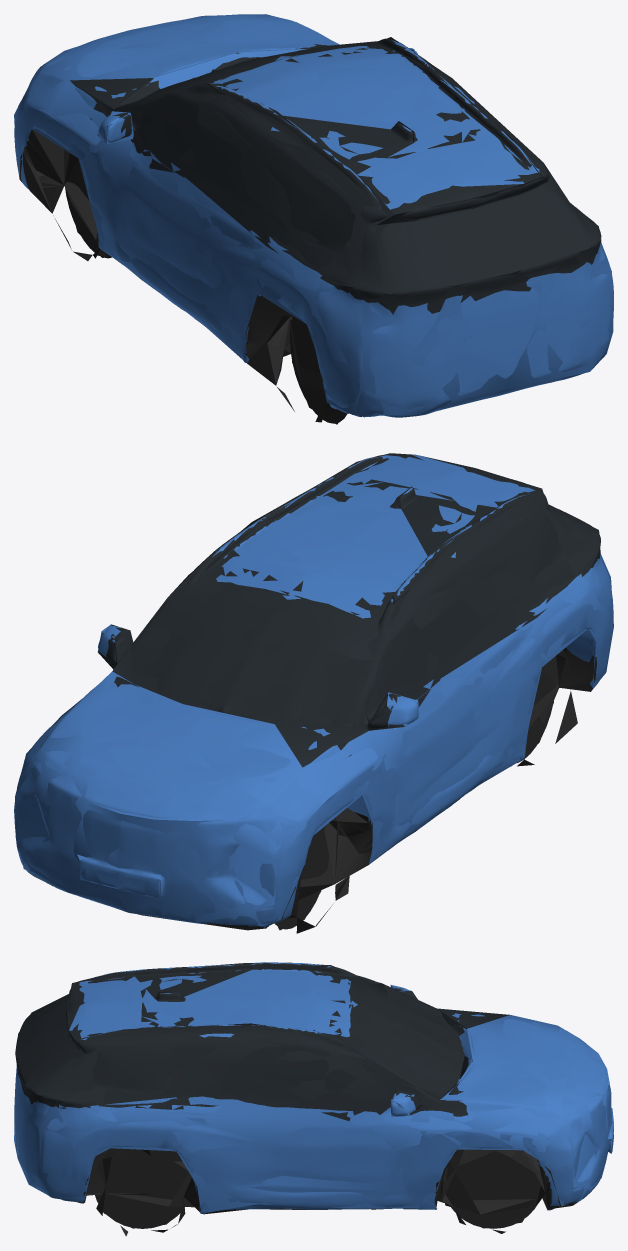
The model's file is hyundai-tucson.glb.
3 views of the same model, one above another, from view 1: azimuth 30°, elevation 25°; view 2: azimuth 150°, elevation 25°; view 3: azimuth 270°, elevation 25° (orthographic). The views are drawn at different scales.
Visible parts, largest first — view 1: body, far; view 2: body, far; view 3: body, far.
Boxes of the visible parts, left/top/right/bottom form: body: left=14, top=14, right=613, bottom=423; far: left=14, top=14, right=613, bottom=424; body: left=14, top=454, right=613, bottom=933; far: left=15, top=453, right=613, bottom=933; body: left=14, top=962, right=613, bottom=1236; far: left=14, top=963, right=612, bottom=1228.
Bounding box in the file's own units: 2.19 × 1.72 × 4.68.
